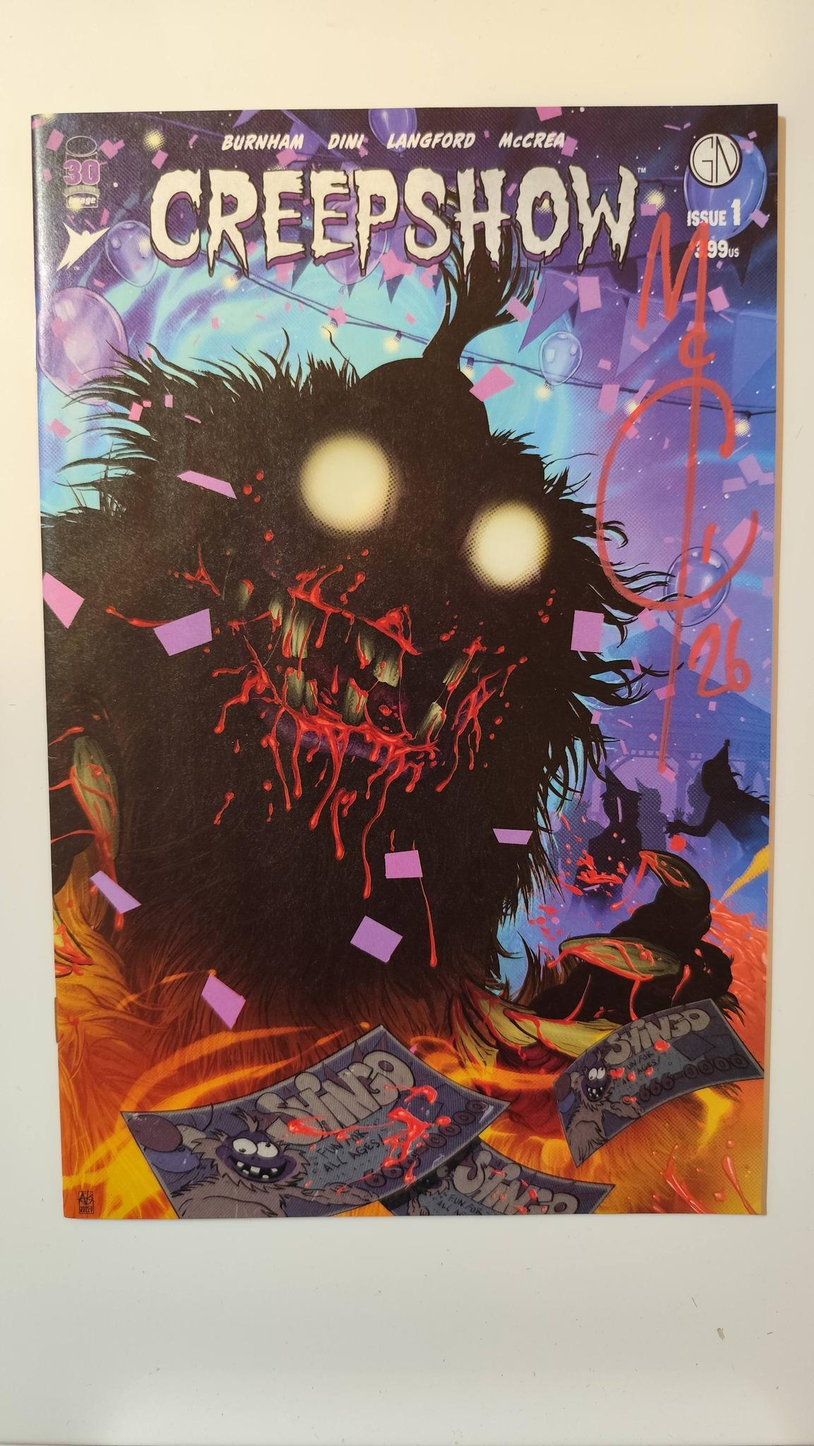comic: (32, 104, 790, 1221)
